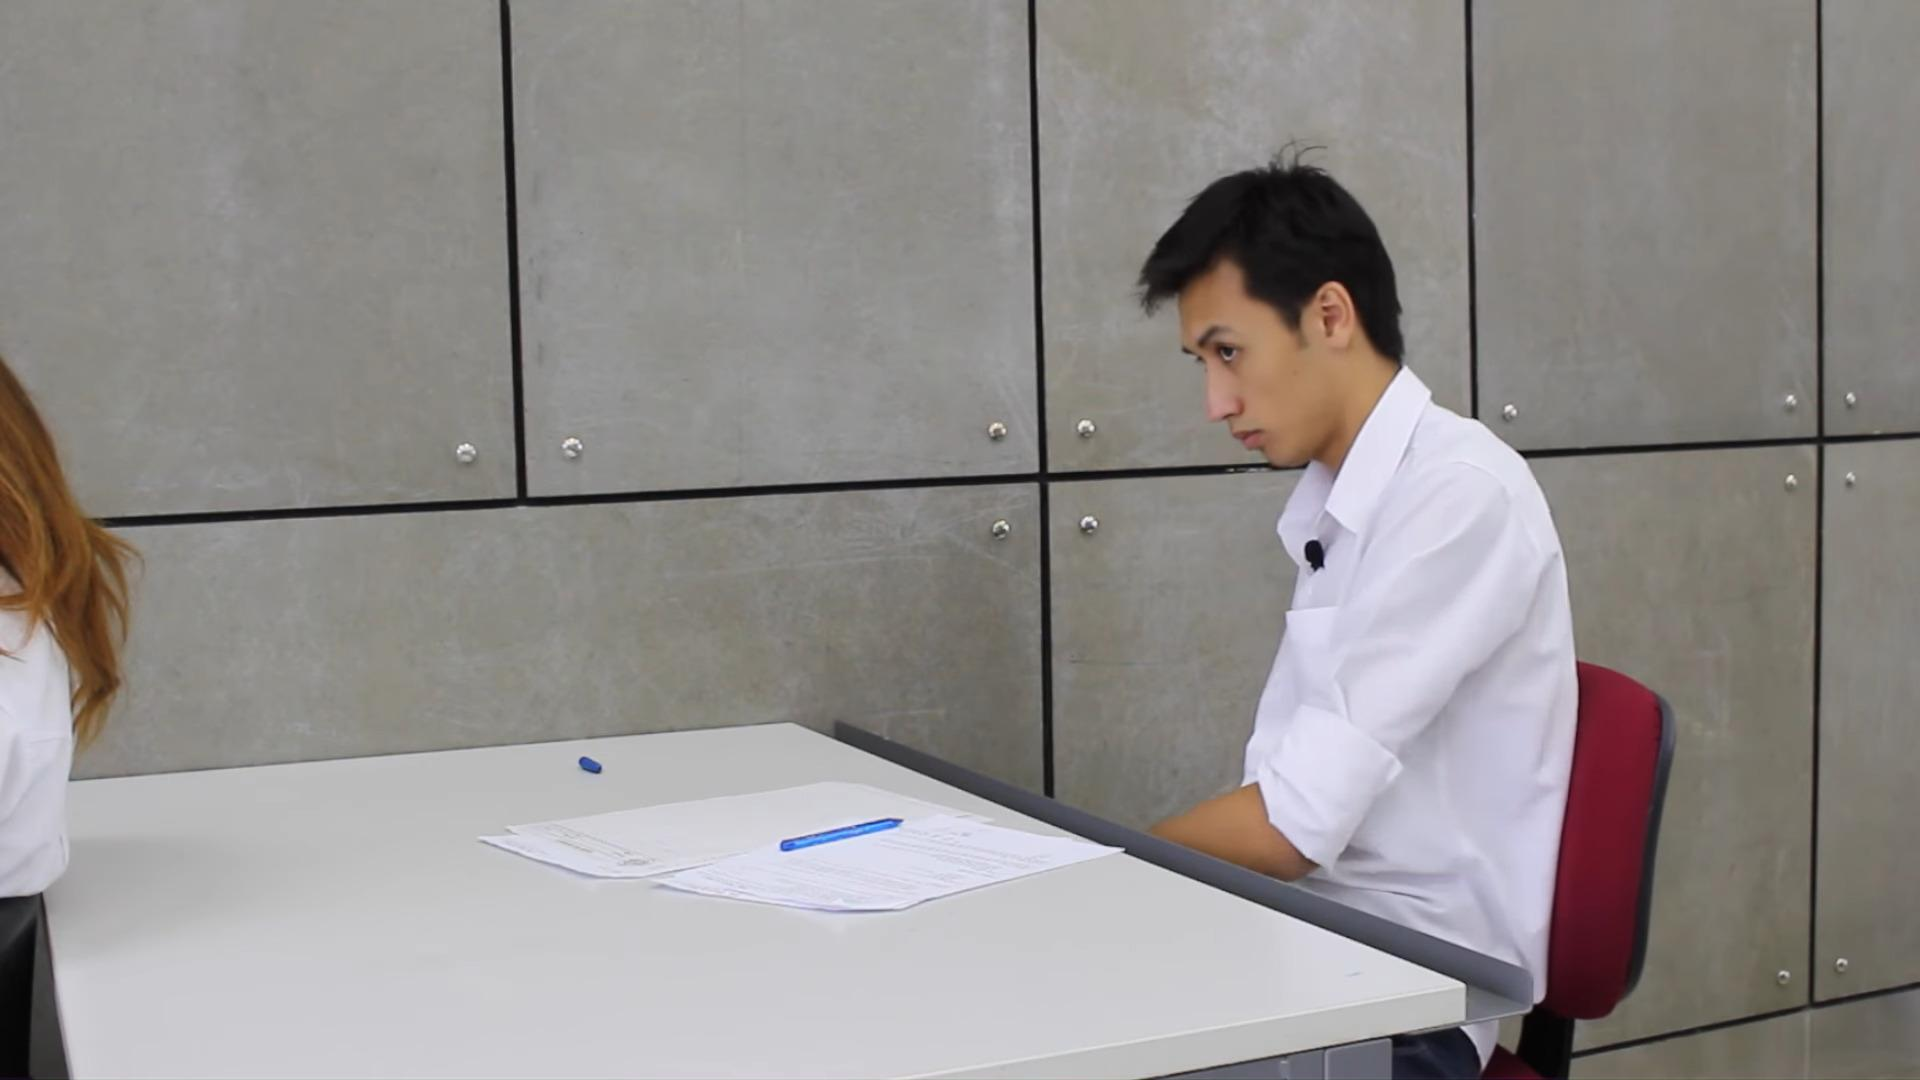cheating: (452, 125, 1601, 1022)
